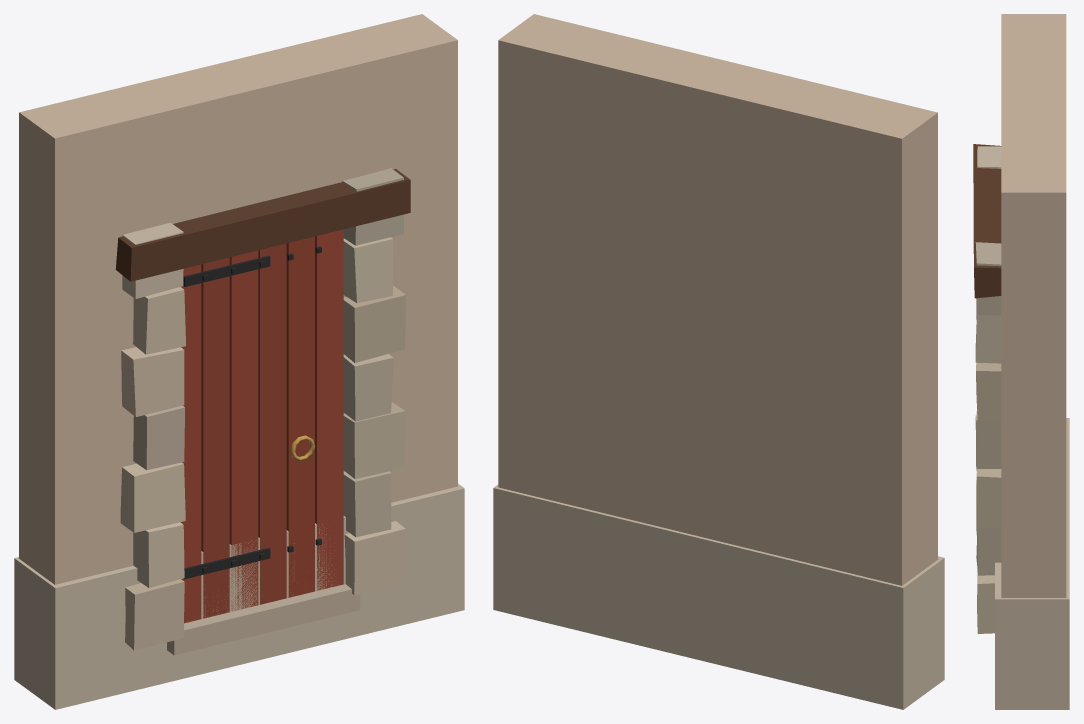
Rendered from puerta_dintel.glb.
The picture shows the model from 3 angles, left to right: view 1: azimuth 30°, elevation 25°; view 2: azimuth 150°, elevation 25°; view 3: azimuth 270°, elevation 25°; orthographic projection. The views are drawn at different scales.
Parts seen in each view (by area): view 1: puerta_dintel_fijo; view 2: puerta_dintel_fijo; view 3: puerta_dintel_fijo.
Part boxes in pixels (x1=…): puerta_dintel_fijo: x1=14, y1=14, x2=464, y2=709; puerta_dintel_fijo: x1=493, y1=14, x2=944, y2=709; puerta_dintel_fijo: x1=973, y1=14, x2=1069, y2=709.
Size of the model in its own units: 2.64 by 3.5 by 0.5925.
